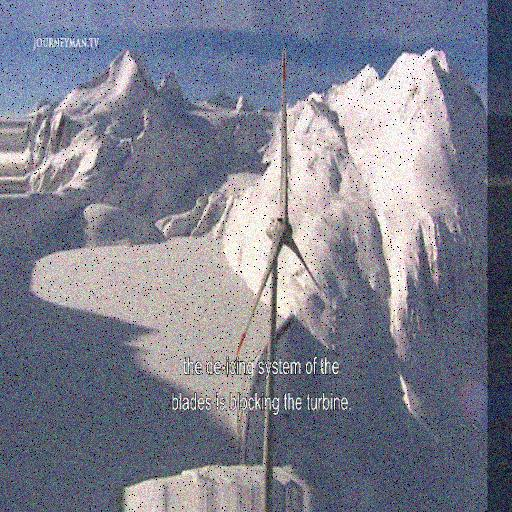wind turbine: (229, 46, 322, 465)
